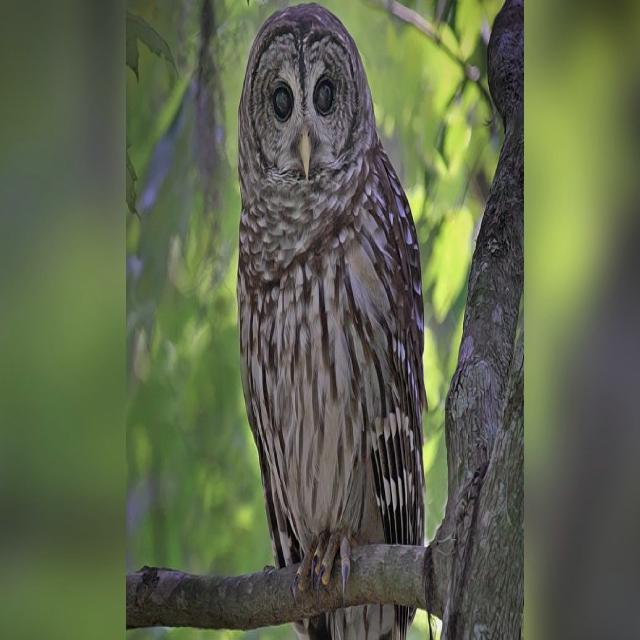owl: (237, 4, 427, 587)
